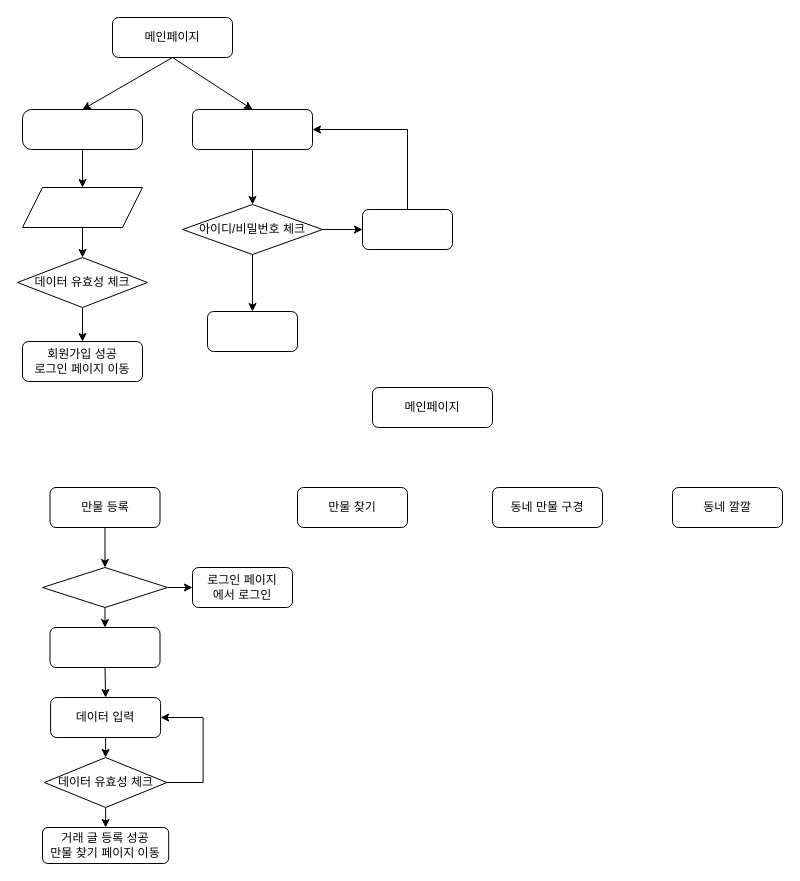
The diagram is 800 pixels wide and 881 high, and some of its shapes have lost their labels. The shapes that lost their labels are listed below. From the top down, each one's centre as x and y in pixels, then its label:
pixel 82 129: 회원가입
pixel 252 129: 로그인
pixel 82 207: 회원정보 입력
pixel 407 229: 로그인 실패
pixel 252 331: 로그인 성공
pixel 105 587: 로그인 유무
pixel 104 647: 만물 등록 페이지 이동
